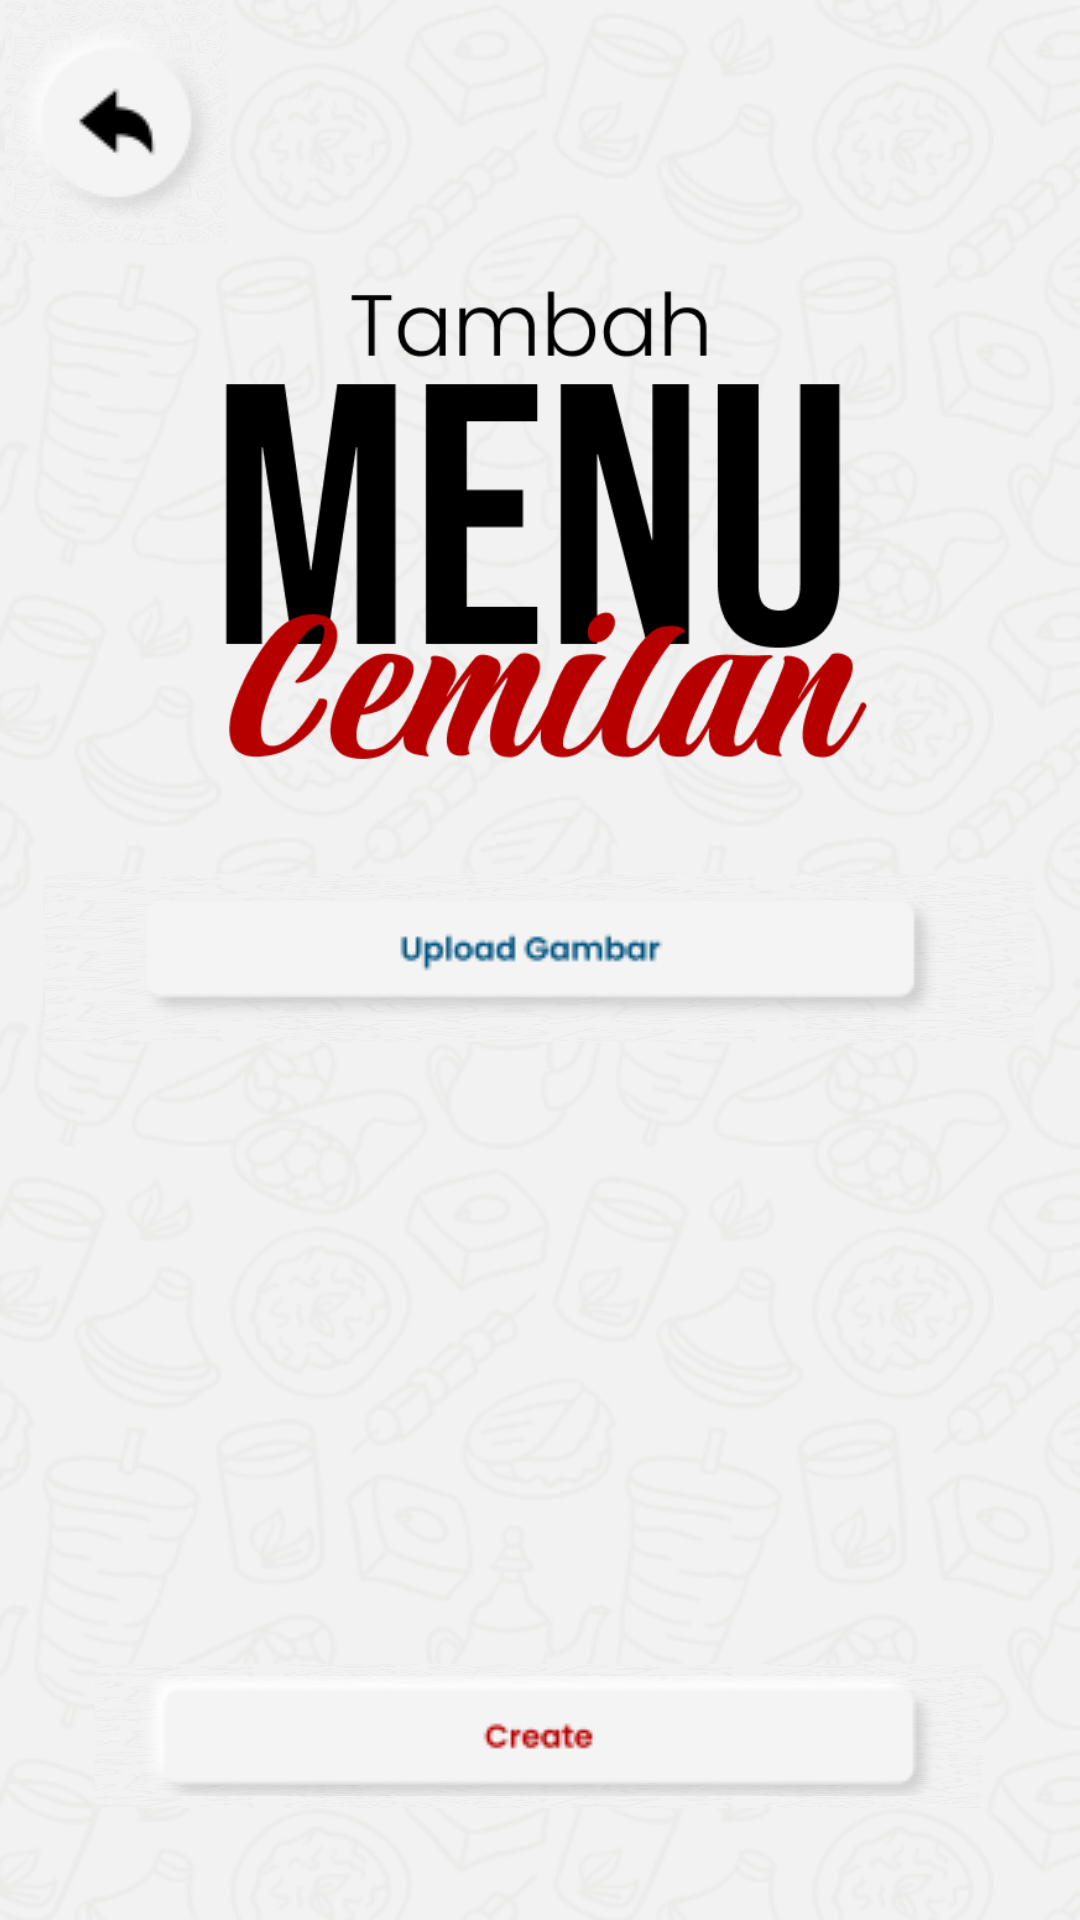

Named icons in this screenshot (1080px x 1920px) and their bounding boxes, (x1, y1, x2, y2):
buttonkembali: (79, 89, 195, 201)
